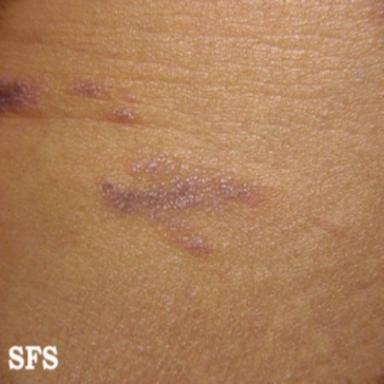lichen: (101, 155, 263, 255), (0, 76, 47, 112), (69, 80, 112, 100), (109, 107, 139, 121)
